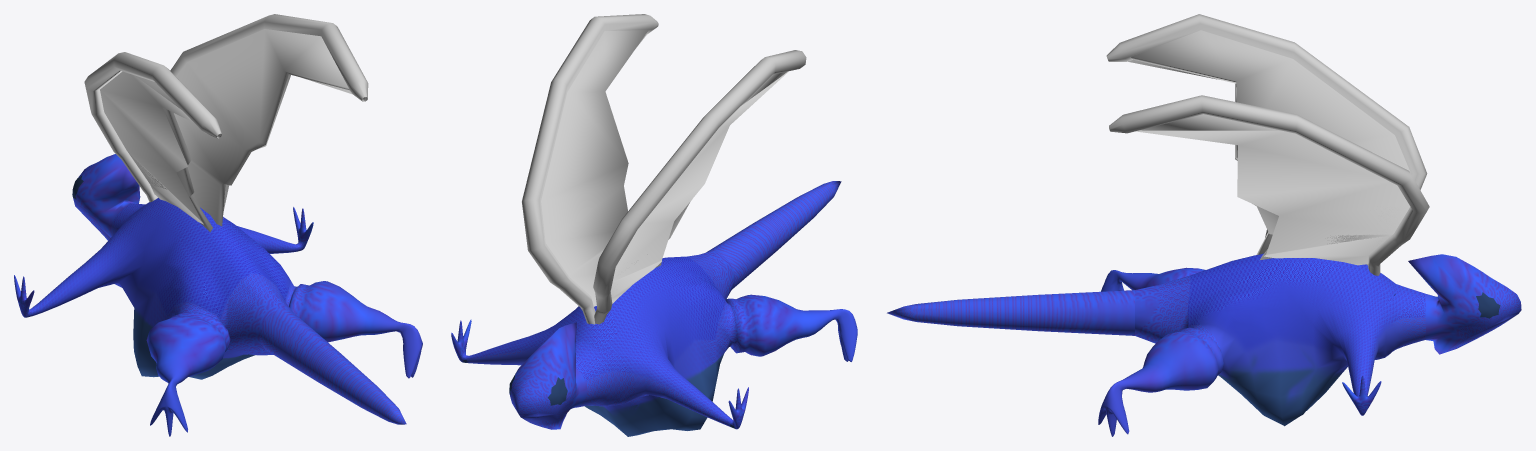
File: doragon.fbx
The picture shows the model from 3 angles, left to right: view 1: azimuth 30°, elevation 25°; view 2: azimuth 150°, elevation 25°; view 3: azimuth 270°, elevation 25°; orthographic projection. The views are drawn at different scales.
Visible parts, largest first — view 1: ドラゴン, 羽.001, 羽; view 2: ドラゴン, 羽.001, 羽; view 3: ドラゴン, 羽.001, 羽.
Part boxes in pixels (bbox=[...]): ドラゴン: bbox=[14, 154, 422, 436]; 羽.001: bbox=[170, 14, 368, 226]; 羽: bbox=[84, 52, 221, 232]; ドラゴン: bbox=[451, 181, 857, 436]; 羽.001: bbox=[522, 14, 658, 324]; 羽: bbox=[593, 50, 806, 324]; ドラゴン: bbox=[887, 253, 1521, 436]; 羽.001: bbox=[1109, 95, 1429, 275]; 羽: bbox=[1106, 14, 1427, 265].
Bounding box in the file's own units: 1869 × 2301 × 3683.
